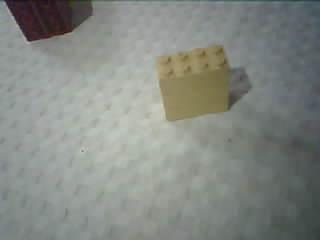lego: (151, 42, 230, 121)
